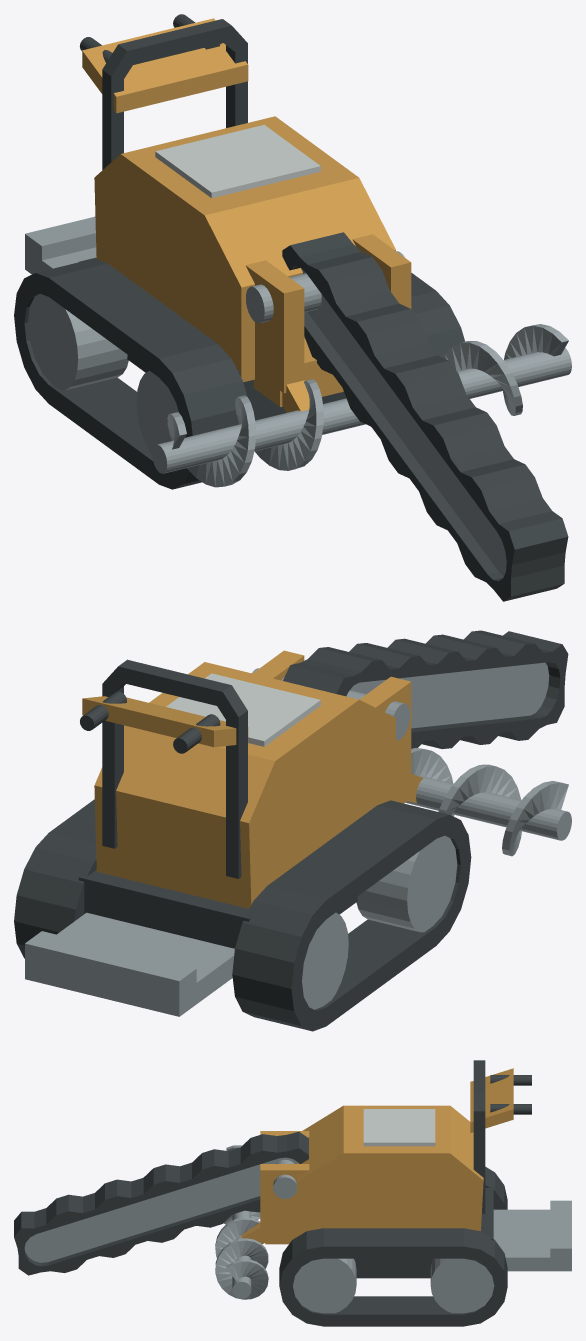
The picture shows the model from 3 angles, top to bottom: view 1: azimuth 30°, elevation 25°; view 2: azimuth 150°, elevation 25°; view 3: azimuth 270°, elevation 25°; orthographic projection. The views are drawn at different scales.
Visible parts, largest first — view 1: WholeSlopedEngineHousing, WholeClosedBluntDiggingChain, WholeLeftTrackBelt, WholeFrontDriveCheeks, WholeAugerCrossShaft, WholeLongSlopingGuideBoom, WholeEngineTopInset, WholeBlankSlopingConsole, WholeRearControlFrame, WholeLeftTrackEndRoller1, WholeLeftHelicalFlight, WholeRightHelicalFlight (+6 smaller); view 2: WholeSlopedEngineHousing, WholeLeftTrackBelt, WholeRearStandingPlatform, WholeClosedBluntDiggingChain, WholeRearControlFrame, WholeRightTrackBelt, WholeLongSlopingGuideBoom, WholeLowChassisFrame, WholeLeftTrackEndRoller0, WholeLeftHelicalFlight, WholeEngineTopInset, WholeAugerCrossShaft (+6 smaller); view 3: WholeSlopedEngineHousing, WholeRightTrackBelt, WholeClosedBluntDiggingChain, WholeLongSlopingGuideBoom, WholeRearStandingPlatform, WholeRightHelicalFlight, WholeRightTrackEndRoller1, WholeRightTrackEndRoller0, WholeFrontDriveCheeks, WholeEngineTopInset, WholeLowChassisFrame, WholeRearControlFrame (+4 smaller).
Part boxes in pixels (x1=…): WholeSlopedEngineHousing: x1=94, y1=116, x2=395, y2=382; WholeClosedBluntDiggingChain: x1=282, y1=232, x2=568, y2=601; WholeLeftTrackBelt: x1=14, y1=258, x2=247, y2=489; WholeFrontDriveCheeks: x1=245, y1=234, x2=411, y2=406; WholeAugerCrossShaft: x1=152, y1=348, x2=571, y2=473; WholeLongSlopingGuideBoom: x1=301, y1=268, x2=506, y2=576; WholeEngineTopInset: x1=155, y1=124, x2=320, y2=198; WholeBlankSlopingConsole: x1=82, y1=18, x2=248, y2=113; WholeRearControlFrame: x1=102, y1=19, x2=247, y2=169; WholeLeftTrackEndRoller1: x1=28, y1=294, x2=128, y2=390; WholeLeftHelicalFlight: x1=167, y1=379, x2=323, y2=487; WholeRightHelicalFlight: x1=443, y1=324, x2=568, y2=415; WholeSlopedEngineHousing: x1=94, y1=662, x2=395, y2=908; WholeLeftTrackBelt: x1=232, y1=800, x2=471, y2=1031; WholeRearStandingPlatform: x1=25, y1=912, x2=234, y2=1016; WholeClosedBluntDiggingChain: x1=283, y1=630, x2=568, y2=749; WholeRearControlFrame: x1=102, y1=659, x2=247, y2=878; WholeRightTrackBelt: x1=14, y1=799, x2=96, y2=958; WholeLongSlopingGuideBoom: x1=350, y1=662, x2=549, y2=728; WholeLowChassisFrame: x1=78, y1=870, x2=357, y2=948; WholeLeftTrackEndRoller0: x1=356, y1=835, x2=457, y2=932; WholeLeftHelicalFlight: x1=411, y1=748, x2=568, y2=856; WholeEngineTopInset: x1=166, y1=673, x2=320, y2=746; WholeAugerCrossShaft: x1=405, y1=776, x2=571, y2=840; WholeSlopedEngineHousing: x1=297, y1=1105, x2=483, y2=1236; WholeRightTrackBelt: x1=279, y1=1228, x2=507, y2=1326; WholeClosedBluntDiggingChain: x1=14, y1=1131, x2=308, y2=1275; WholeLongSlopingGuideBoom: x1=24, y1=1157, x2=297, y2=1262; WholeRearStandingPlatform: x1=493, y1=1200, x2=571, y2=1271; WholeRightHelicalFlight: x1=215, y1=1217, x2=268, y2=1299; WholeRightTrackEndRoller1: x1=430, y1=1258, x2=494, y2=1313; WholeRightTrackEndRoller0: x1=293, y1=1258, x2=356, y2=1313; WholeFrontDriveCheeks: x1=260, y1=1131, x2=309, y2=1244; WholeEngineTopInset: x1=363, y1=1109, x2=435, y2=1146; WholeLowChassisFrame: x1=354, y1=1186, x2=493, y2=1278; WholeRearControlFrame: x1=473, y1=1060, x2=485, y2=1213.
Size of the model in its own units: 1.78 by 1.37 by 3.35.
